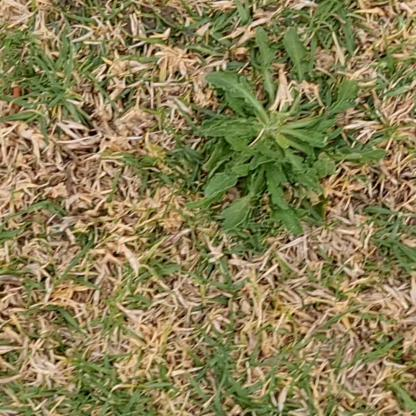Weeds: (193, 26, 387, 239)
